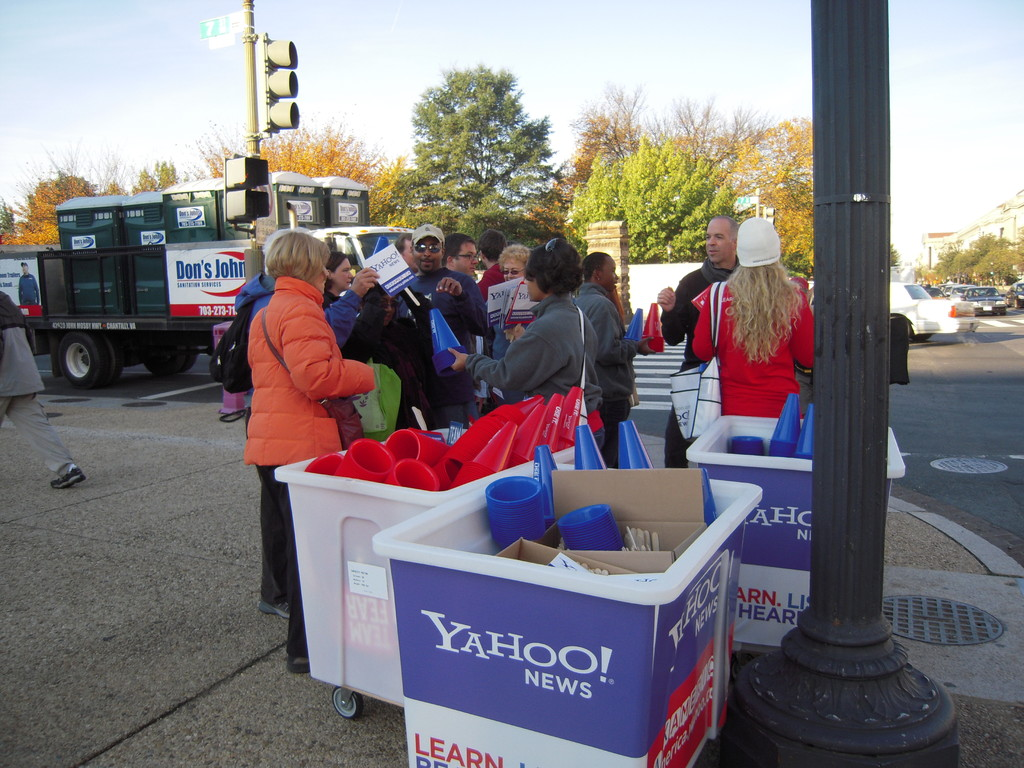Car: (890, 280, 975, 351), (965, 283, 1006, 318)
